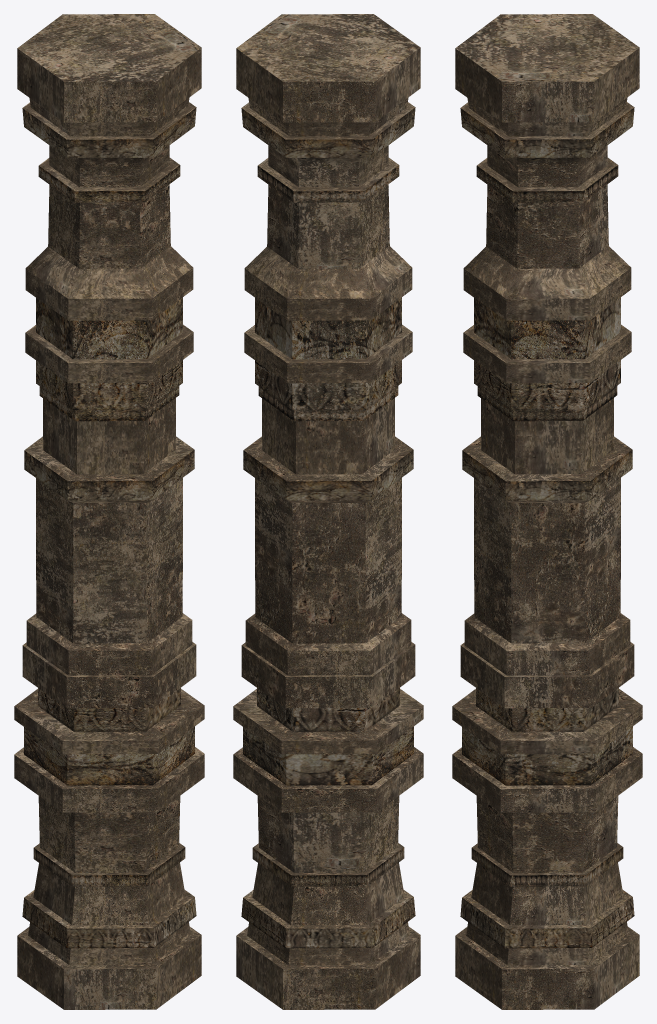
The model's file is materials_5_pillar_long_2.fbx.
3 views of the same model, side by side, from view 1: azimuth 30°, elevation 25°; view 2: azimuth 150°, elevation 25°; view 3: azimuth 270°, elevation 25° (orthographic).
Visible parts, largest first — view 1: materials_5_pillar_long_2; view 2: materials_5_pillar_long_2; view 3: materials_5_pillar_long_2.
Part boxes in pixels (box(x1,y1,x2,y2)): materials_5_pillar_long_2: box(14, 14, 204, 1009); materials_5_pillar_long_2: box(233, 14, 423, 1009); materials_5_pillar_long_2: box(452, 14, 642, 1009).
Bounding box in the file's own units: 30.4 × 188 × 34.91.
